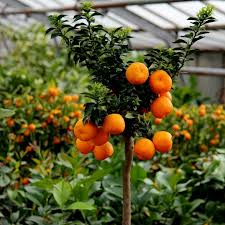orange: (73, 115, 95, 142), (125, 61, 149, 85), (152, 97, 176, 121), (151, 71, 173, 96), (105, 112, 127, 137), (153, 130, 176, 153), (136, 139, 155, 160)
